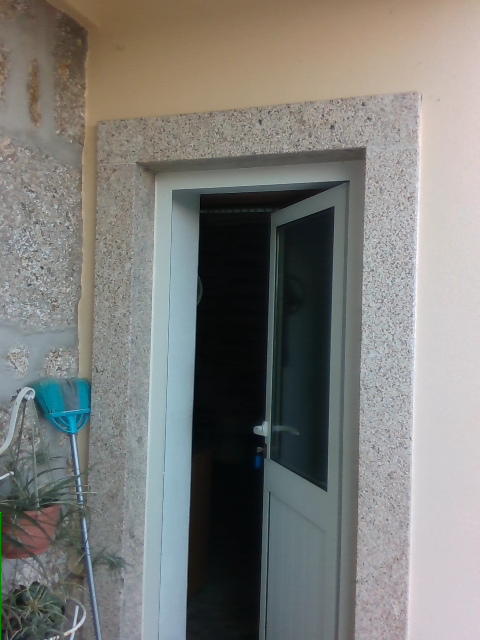semi: (138, 157, 365, 639)
